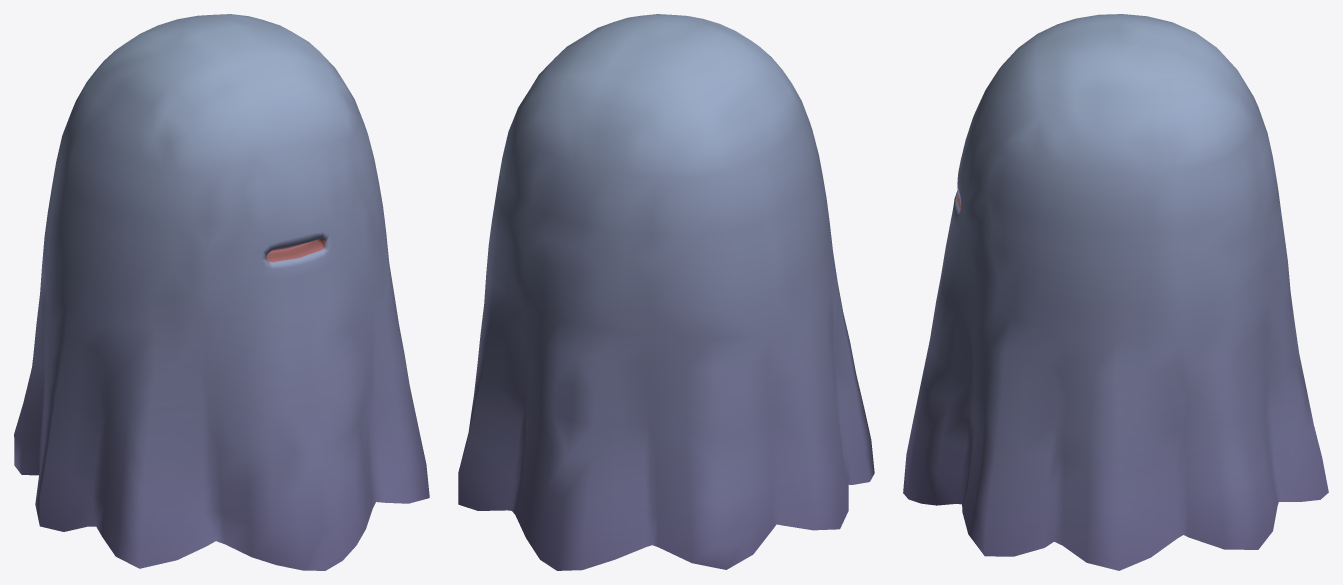
The model's file is base_ghost.fbx.
3 views of the same model, side by side, from view 1: azimuth 30°, elevation 25°; view 2: azimuth 150°, elevation 25°; view 3: azimuth 270°, elevation 25° (orthographic).
Visible parts, largest first — view 1: base; view 2: base; view 3: base.
Part boxes in pixels (bbox=[...]): base: bbox=[14, 14, 429, 570]; base: bbox=[458, 14, 874, 570]; base: bbox=[903, 14, 1328, 570].
Size of the model in its own units: 2.35 by 2.93 by 2.44.
